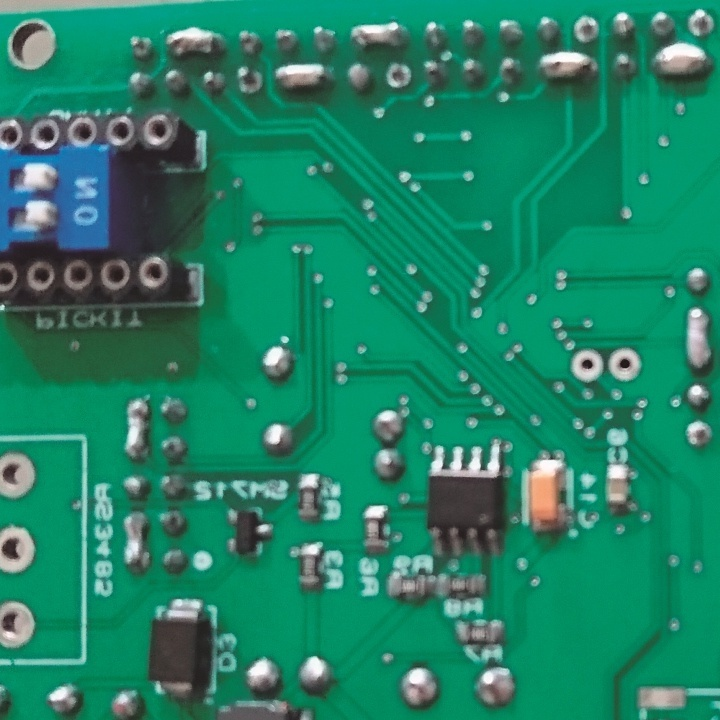F: (1, 448, 39, 504), (1, 526, 41, 575), (1, 600, 40, 650), (607, 345, 642, 381), (570, 349, 602, 383), (236, 62, 264, 100), (687, 5, 713, 39), (684, 419, 712, 449), (572, 15, 600, 43), (385, 59, 410, 89)
P: (682, 304, 716, 372), (651, 42, 710, 77), (166, 26, 224, 60), (537, 49, 596, 82), (121, 511, 151, 573), (350, 20, 407, 50), (125, 396, 149, 461), (276, 62, 333, 89)
